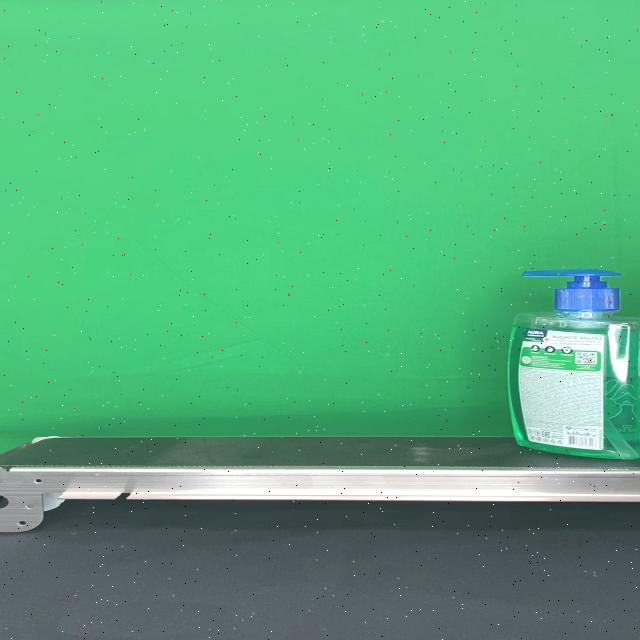Bottle: (506, 269, 640, 459)
Cap: (522, 270, 622, 312)
